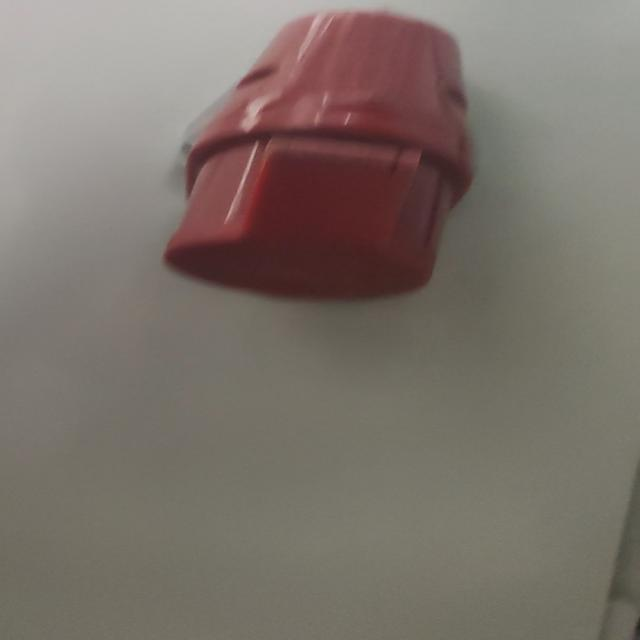400v socket down: (165, 10, 476, 302)
